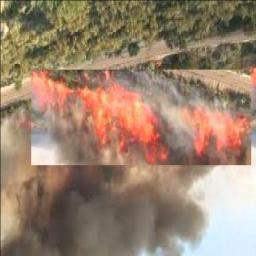Heavy smoke: (1, 108, 223, 256)
Medium fire: (27, 72, 251, 162)
